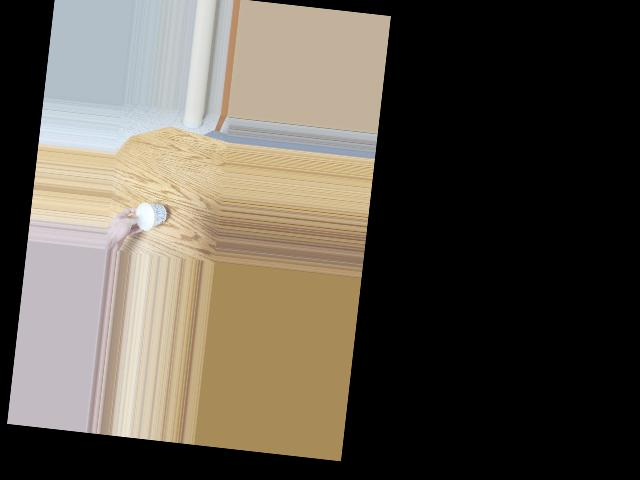cotage: (134, 201, 170, 227)
